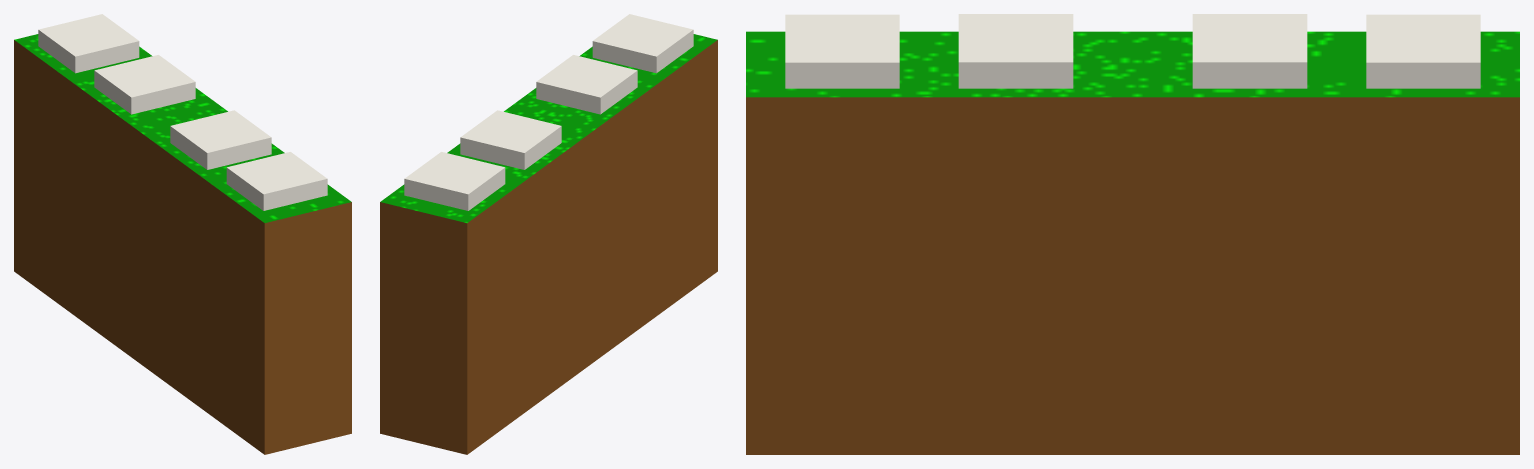
The model's file is selectMap.fbx.
3 renders of one model, left to right at view 1: azimuth 30°, elevation 25°; view 2: azimuth 150°, elevation 25°; view 3: azimuth 270°, elevation 25°, orthographic. The views are drawn at different scales.
Visible parts, largest first — view 1: Cube.002, 立方体; view 2: Cube.002, 立方体; view 3: Cube.002, 立方体.
Boxes of the visible parts, x1,y1,x2,y2 form: Cube.002: (14, 34, 351, 454); 立方体: (38, 14, 327, 210); Cube.002: (380, 34, 717, 454); 立方体: (404, 14, 693, 210); Cube.002: (746, 31, 1519, 454); 立方体: (785, 14, 1480, 88).
Size of the model in its own units: 44.31 by 121 by 221.
1 material, 1 textured.
